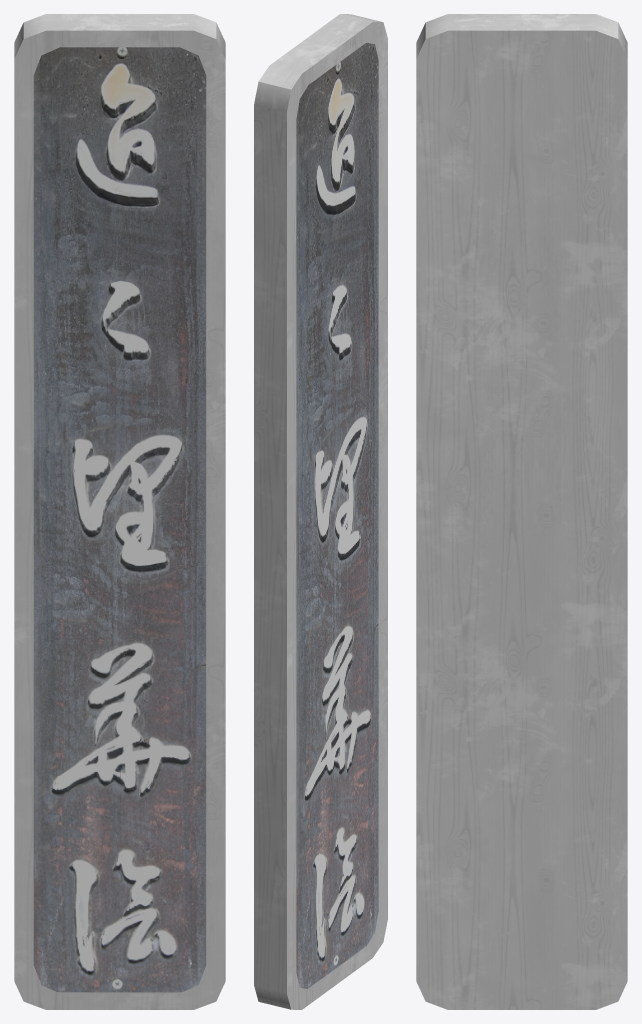
The model's file is SM_R_Yuyotaek3.fbx.
3 renders of one model, left to right at view 1: azimuth 90°, elevation 25°; view 2: azimuth 150°, elevation 25°; view 3: azimuth 270°, elevation 25°, orthographic. The views are drawn at different scales.
Visible parts, largest first — view 1: SM_R_Yuyotaek3; view 2: SM_R_Yuyotaek3; view 3: SM_R_Yuyotaek3.
Boxes of the visible parts, <box> form: SM_R_Yuyotaek3: <box>14,14,225,1009</box>; SM_R_Yuyotaek3: <box>254,14,387,1009</box>; SM_R_Yuyotaek3: <box>416,14,627,1009</box>.
Bounding box in the file's own units: 3.97 × 21.22 × 108.
Materials: 1 (1 with a texture image).
